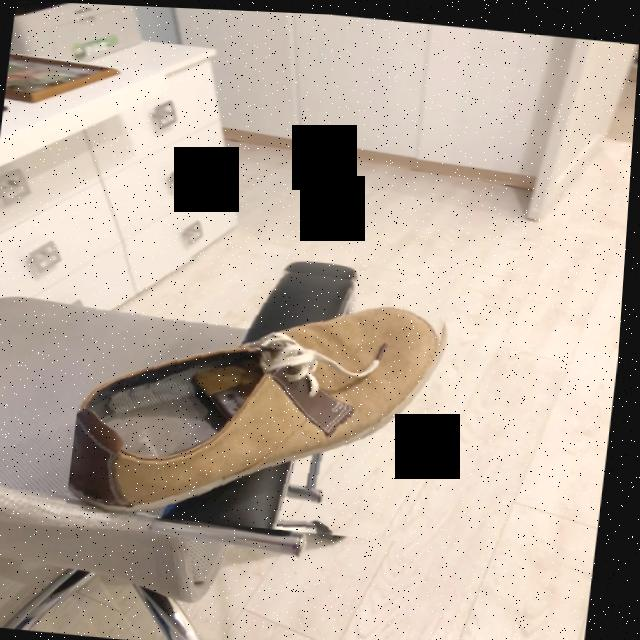shoe: (75, 270, 445, 517)
